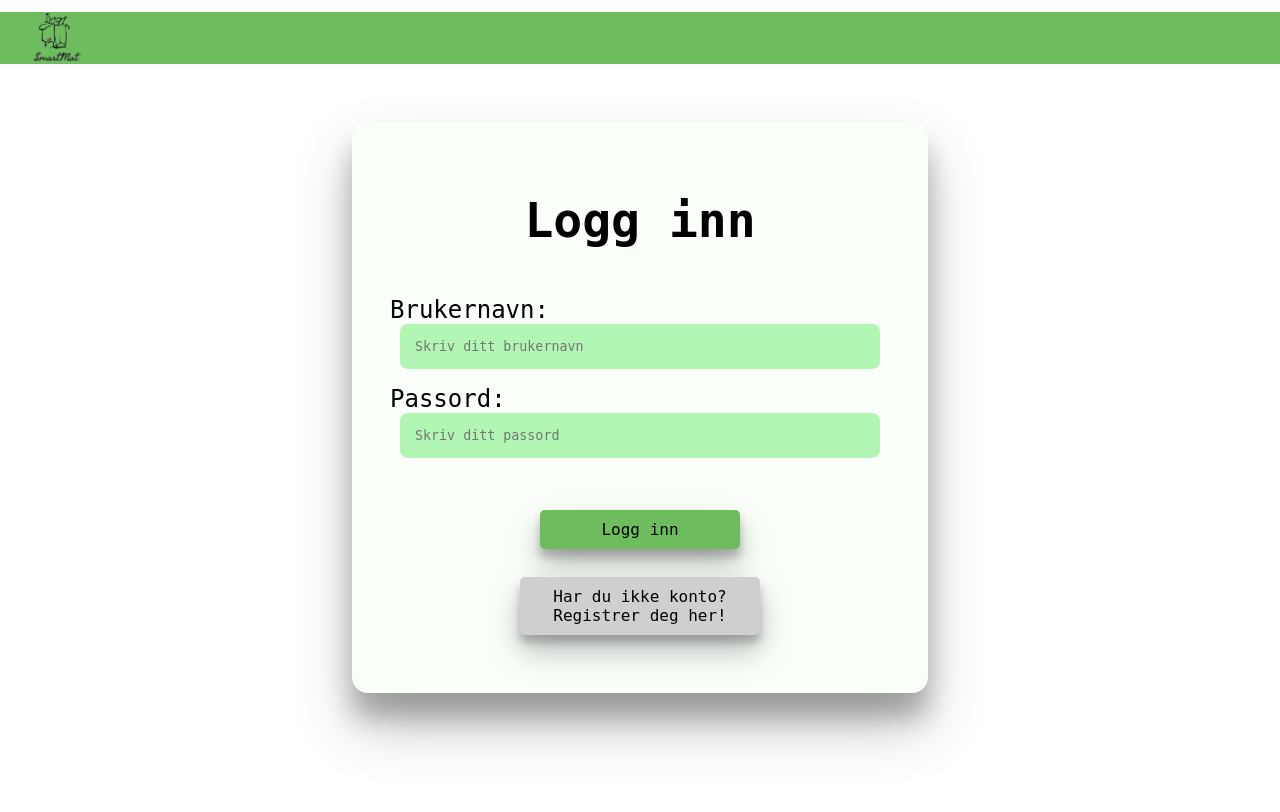
Login › invalid username
The width and height of the screenshot is (1280, 812).
Type "invalidusername" into the field named "username". click: (640, 347)
box: [400,324,880,369]
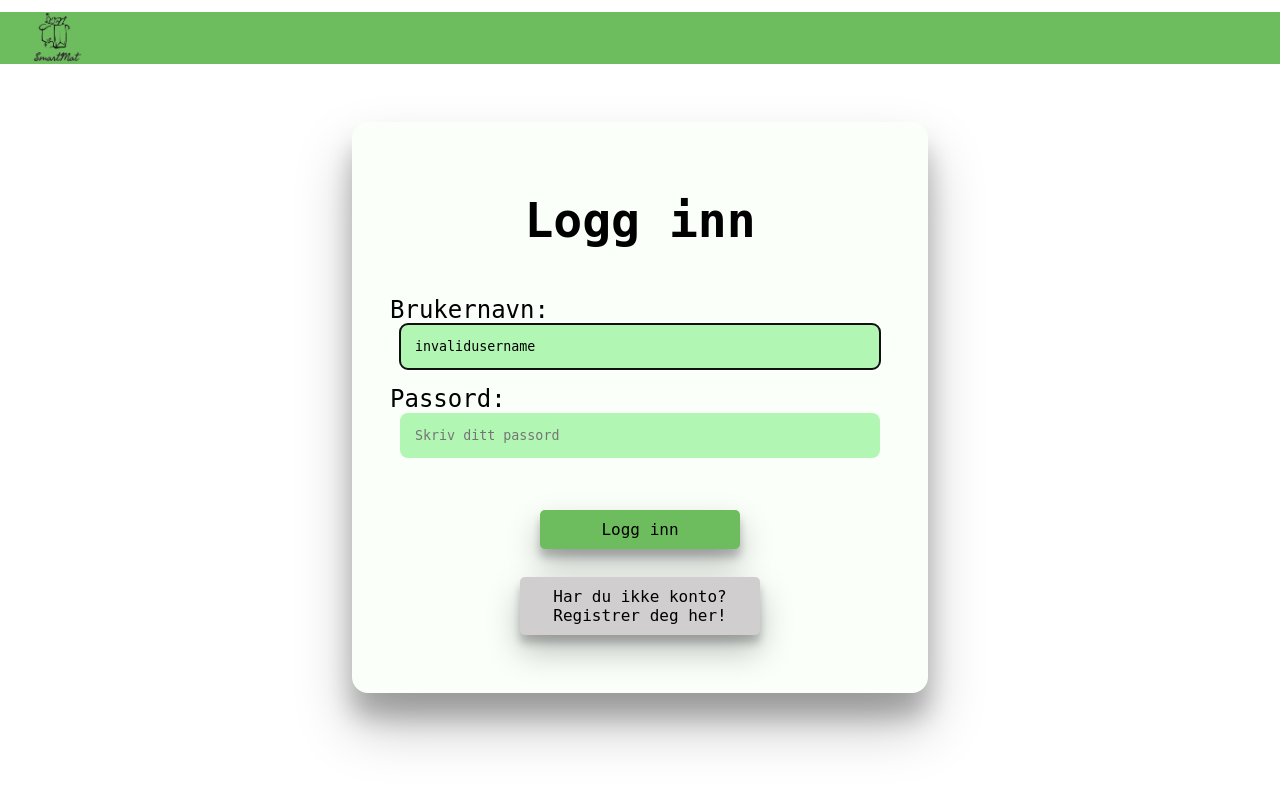
Type "dNA3@j@uN53k" into the password field named "password". click: (640, 436)
box: [400,413,880,458]
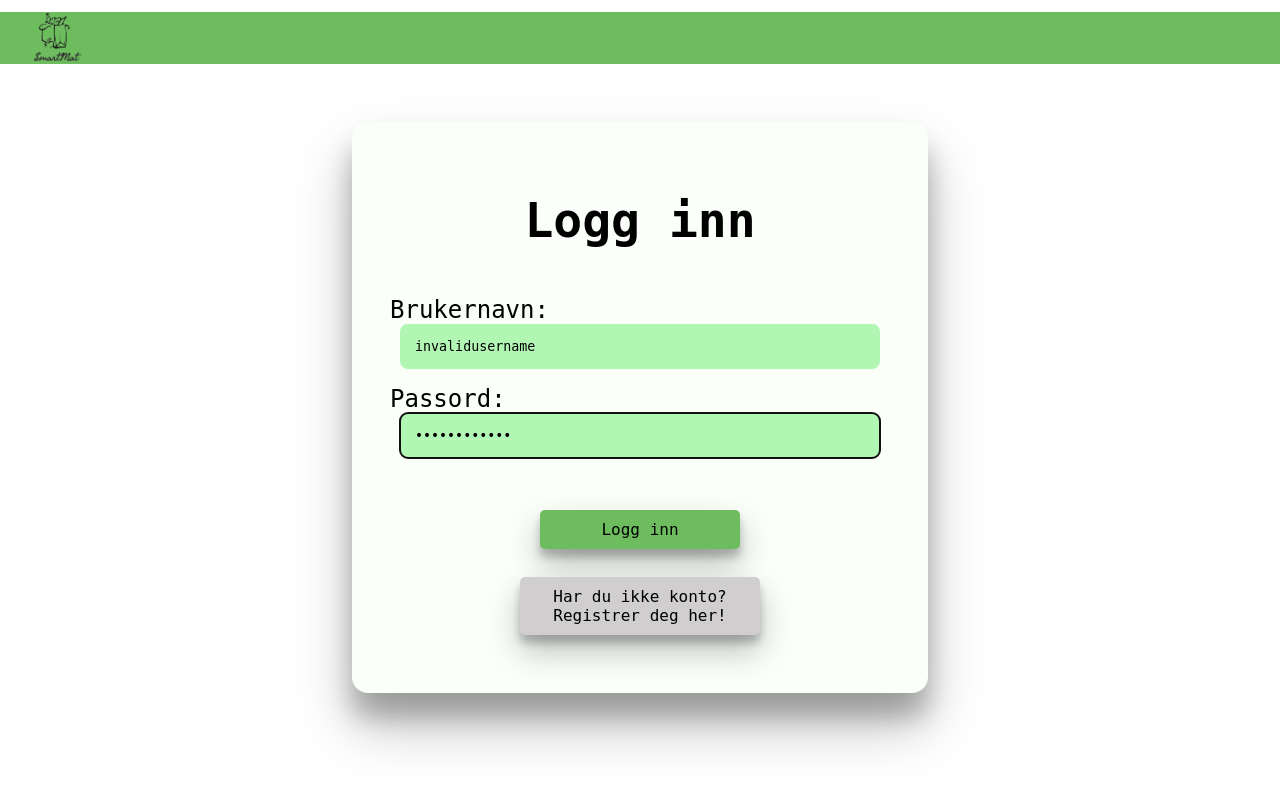
Click the button with id "loginBtn". click: click(640, 530)
box: [540,510,740,549]
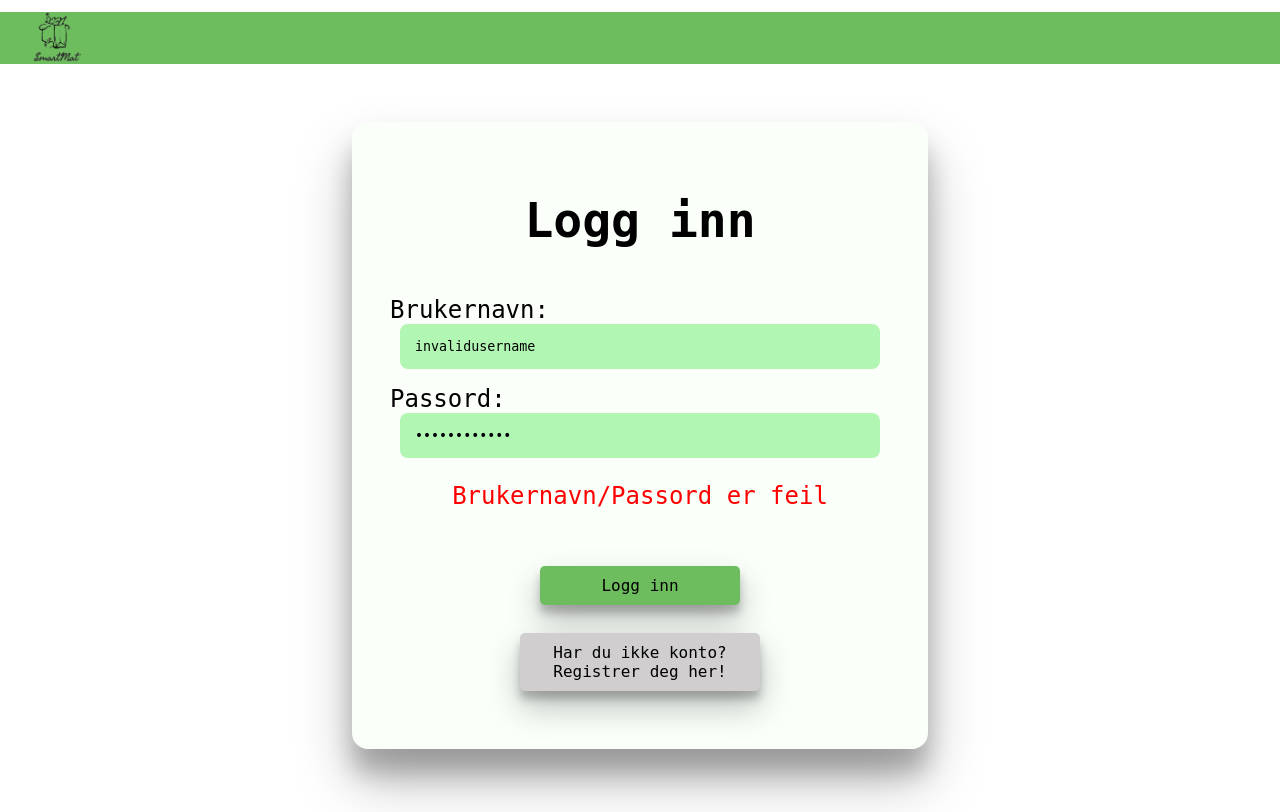
Expected: the text "Brukernavn/Passord er feil" is shown, [452,482,828,510]
